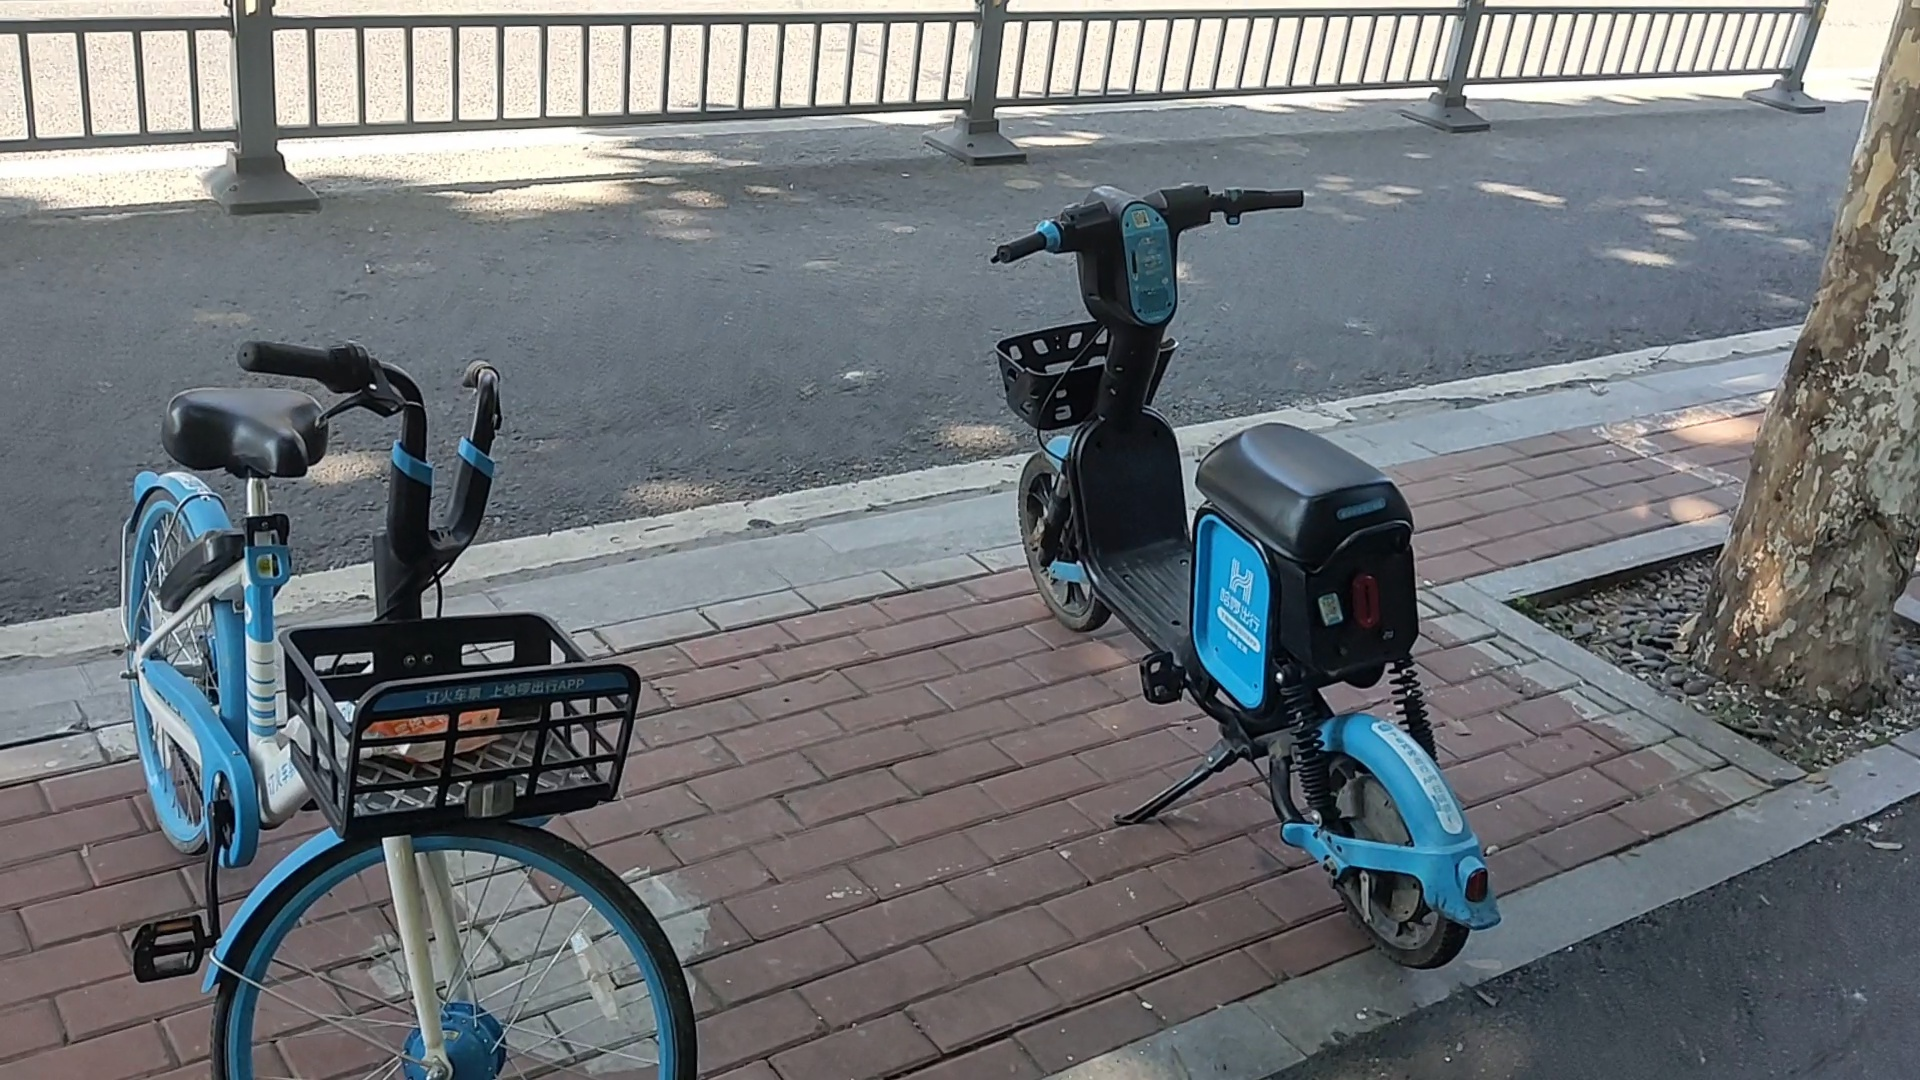non-vehicle: (73, 320, 694, 1080), (960, 160, 1520, 982)
